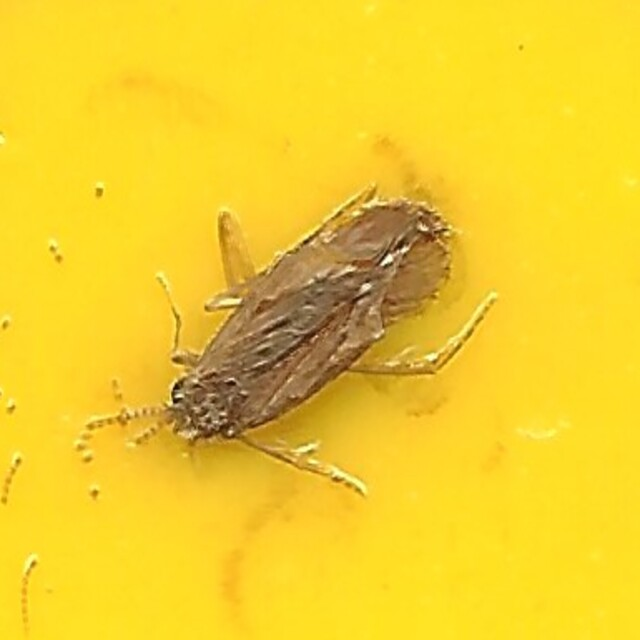Trichoptera: (166, 194, 474, 446)
